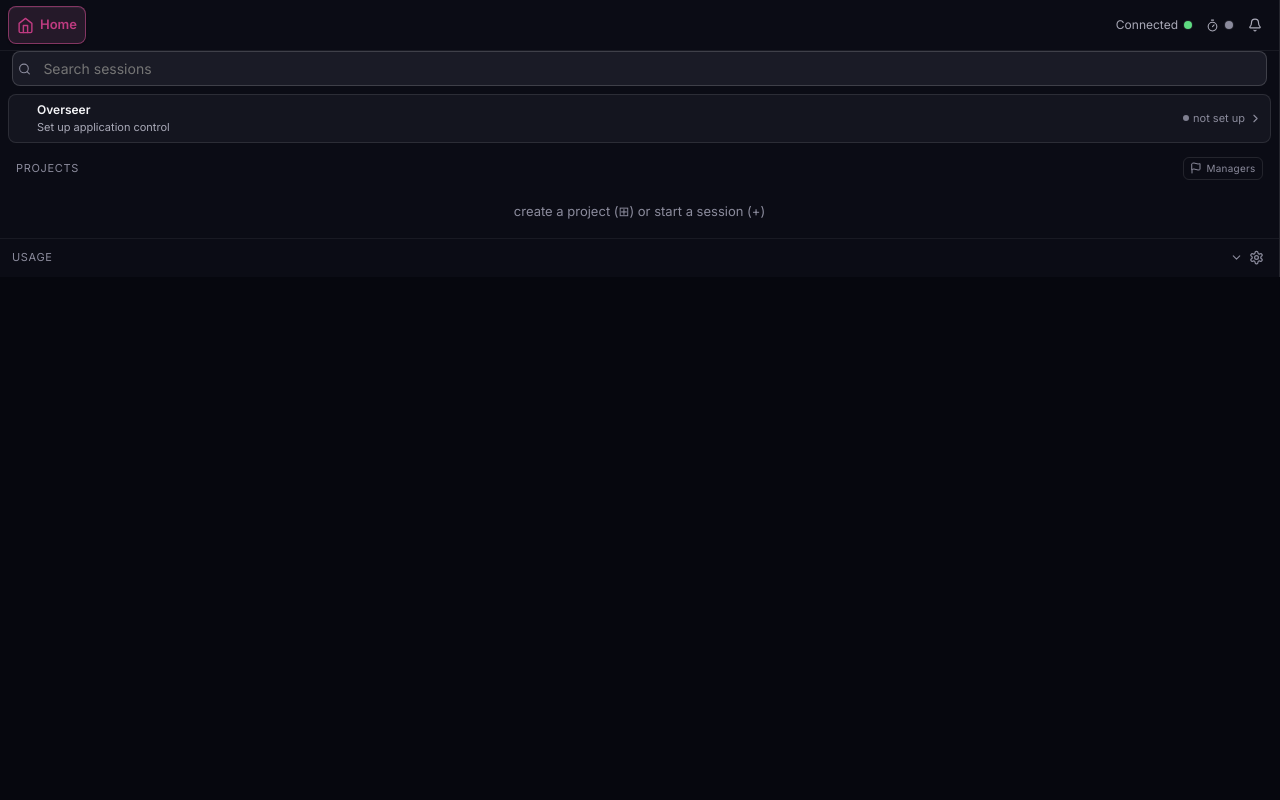
compact system status indicators › opens hub details from the connection indicator and closes on Escape
Click the button with aria-label "Hub: connected" at (1147,24), box [92,11,1199,39]
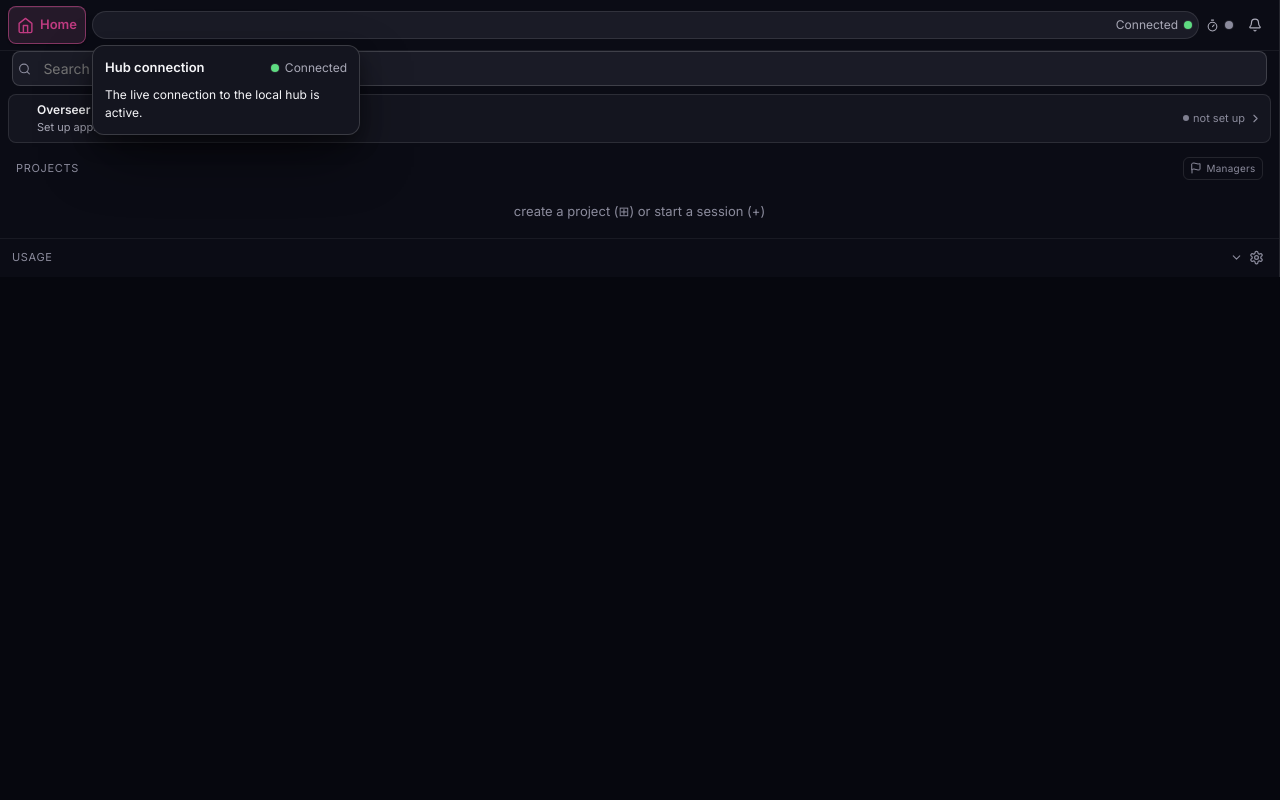
Check: the dialog "Hub connection" shows "The live connection to the local hub is active.", box [105,86,320,120]
Press Escape
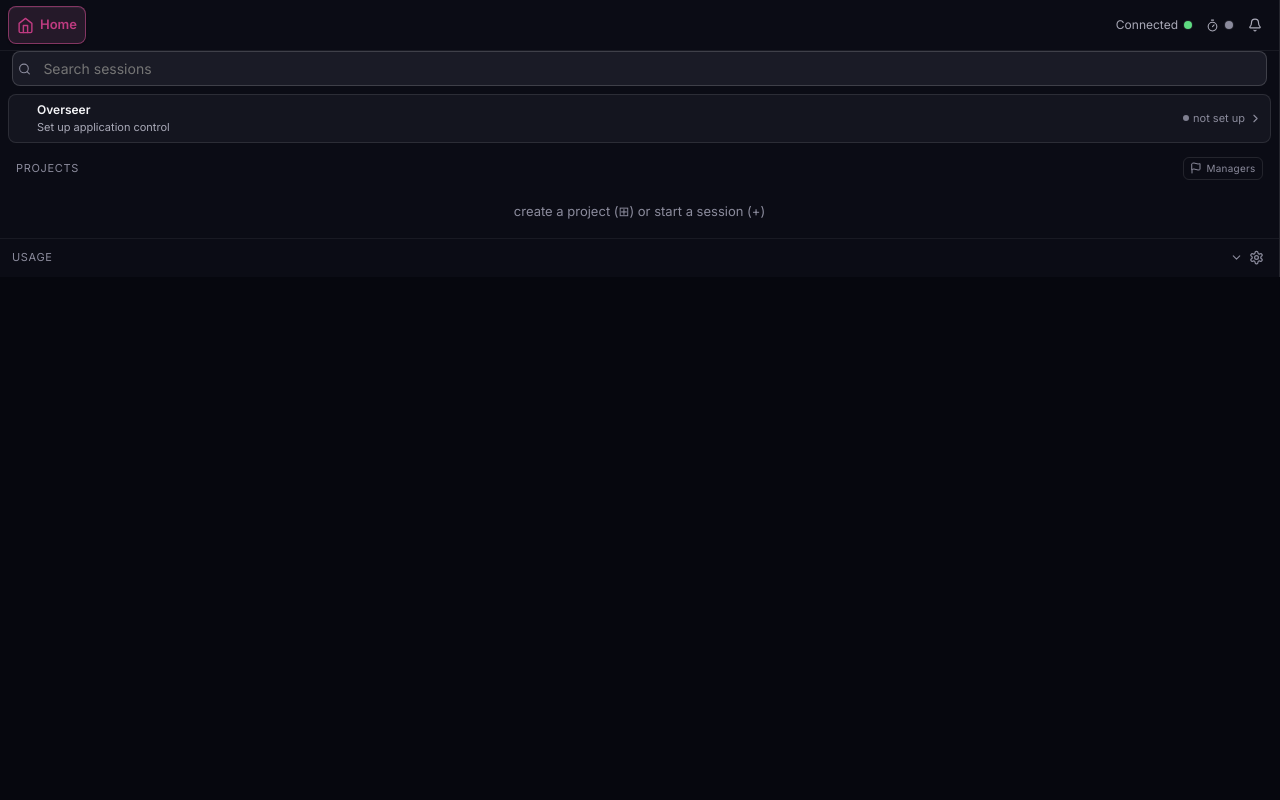
Check: the text "Hub connection" is gone
